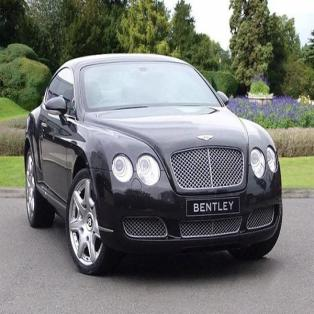Auto: (24, 54, 283, 275)
